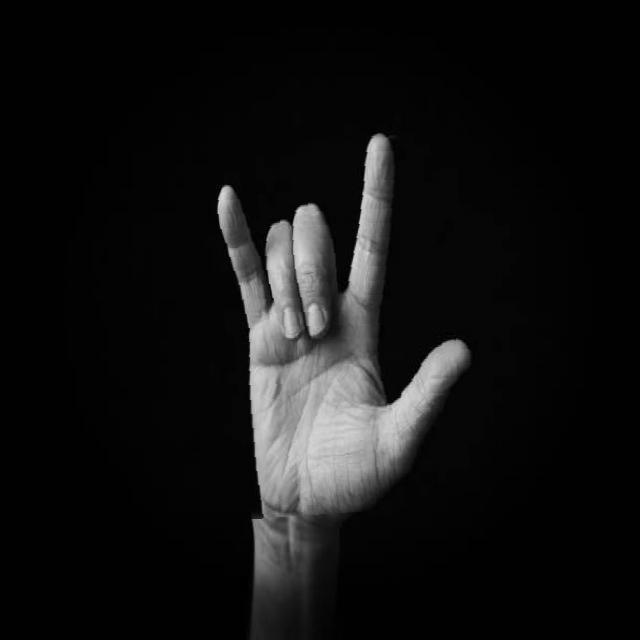I Love You: (206, 131, 490, 517)
